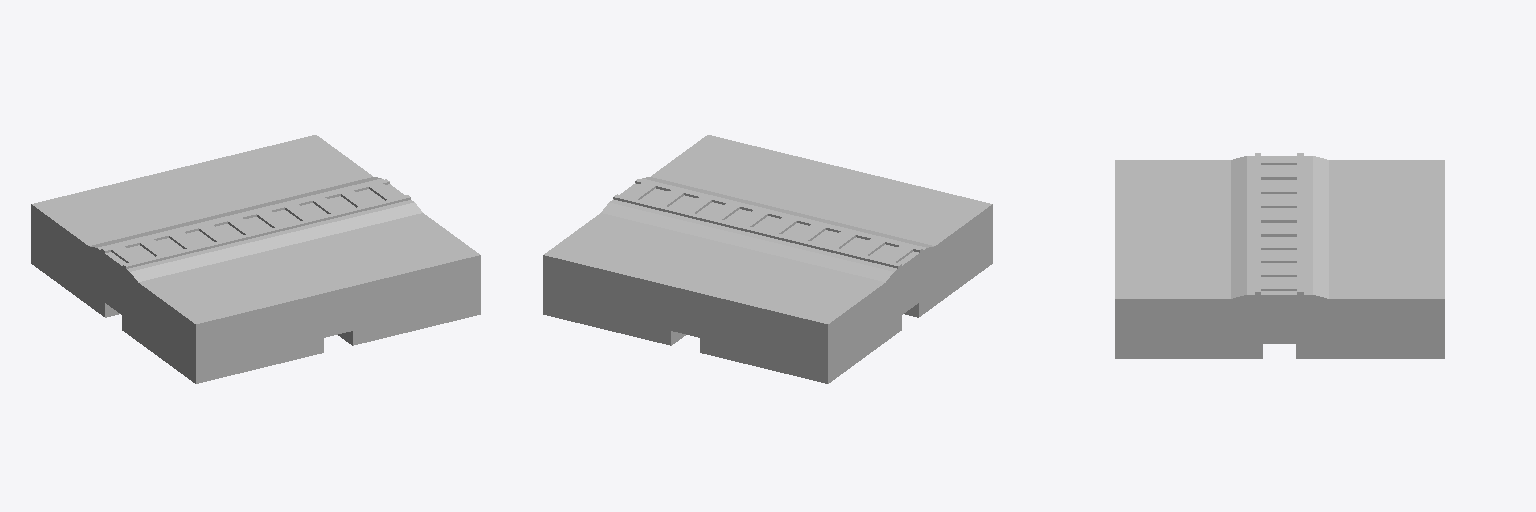
Rendered from puzzlePiece_trainTrack.obj.
3 views of the same model, side by side, from view 1: azimuth 30°, elevation 25°; view 2: azimuth 150°, elevation 25°; view 3: azimuth 270°, elevation 25° (orthographic).
Visible parts, largest first — view 1: puzzlePiece_trainCrossing:pCube1, puzzlePiece_trainCrossing:pCube6, pCube7; view 2: puzzlePiece_trainCrossing:pCube1, puzzlePiece_trainCrossing:pCube6, pCube7; view 3: puzzlePiece_trainCrossing:pCube1, puzzlePiece_trainCrossing:pCube6, pCube7.
Boxes of the visible parts, x1=… form: puzzlePiece_trainCrossing:pCube1: x1=31, y1=135, x2=480, y2=383; puzzlePiece_trainCrossing:pCube6: x1=89, y1=177, x2=422, y2=290; pCube7: x1=101, y1=179, x2=410, y2=268; puzzlePiece_trainCrossing:pCube1: x1=543, y1=135, x2=992, y2=383; puzzlePiece_trainCrossing:pCube6: x1=601, y1=177, x2=941, y2=290; pCube7: x1=613, y1=179, x2=922, y2=268; puzzlePiece_trainCrossing:pCube1: x1=1115, y1=160, x2=1444, y2=358; puzzlePiece_trainCrossing:pCube6: x1=1215, y1=156, x2=1345, y2=303; pCube7: x1=1255, y1=153, x2=1303, y2=294.
Bounding box in the file's own units: 0.5 × 0.1114 × 0.5.